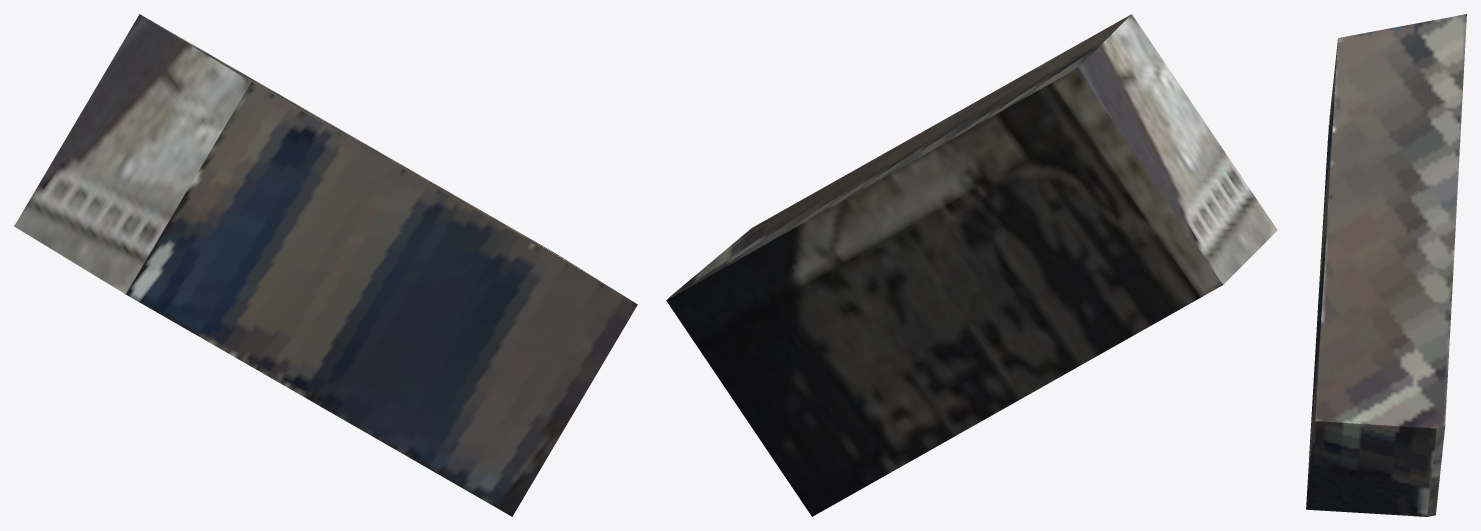
The picture shows the model from 3 angles, left to right: view 1: azimuth 30°, elevation 25°; view 2: azimuth 150°, elevation 25°; view 3: azimuth 270°, elevation 25°; orthographic projection. The views are drawn at different scales.
Parts seen in each view (by area): view 1: BAG_0599100010042503; view 2: BAG_0599100010042503; view 3: BAG_0599100010042503 (×2).
Part boxes in pixels (left/top/right/bottom): BAG_0599100010042503: left=14, top=14, right=637, bottom=516; BAG_0599100010042503: left=666, top=14, right=1277, bottom=516; BAG_0599100010042503 (×2): left=1306, top=14, right=1466, bottom=516.
Size of the model in its own units: 6.19 by 5.57 by 2.04.
2 materials, 2 textured.
